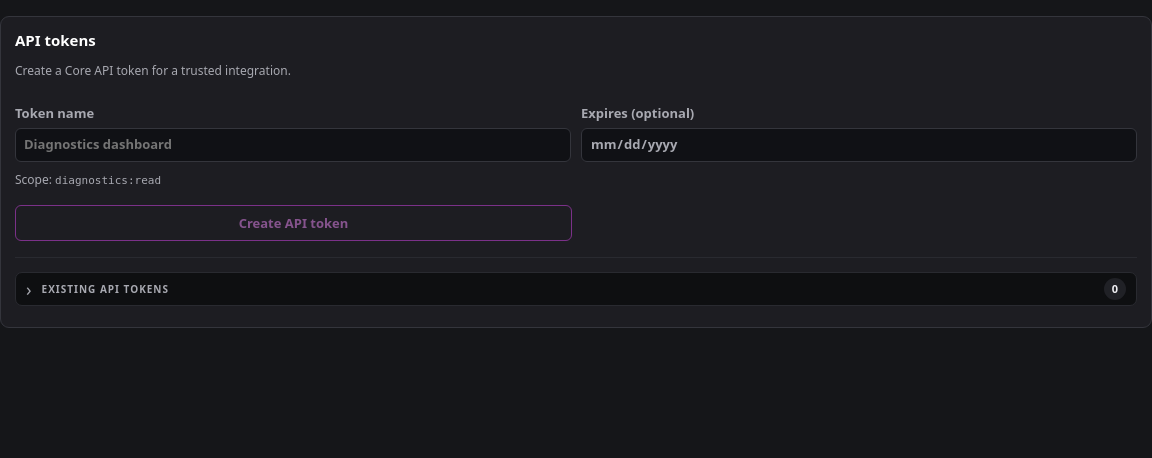
ApiTokensSettings › loads metadata and creates a token with a one-time reveal
The image size is (1152, 458).
Type "Dashboard" into the field labelled "Token name" at point(293, 145), box [15, 128, 571, 162]
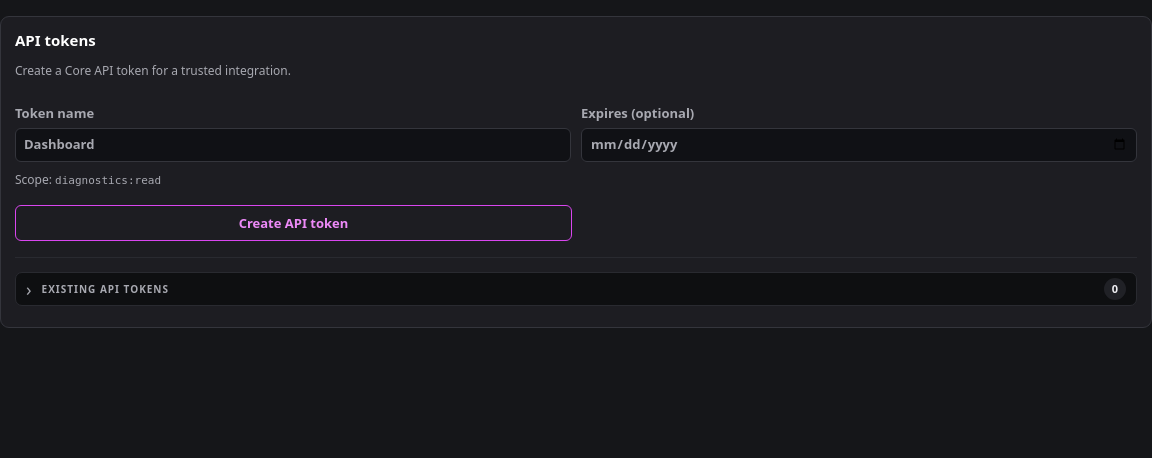
Click the button "Create API token" at point(294, 223), box [15, 204, 572, 241]
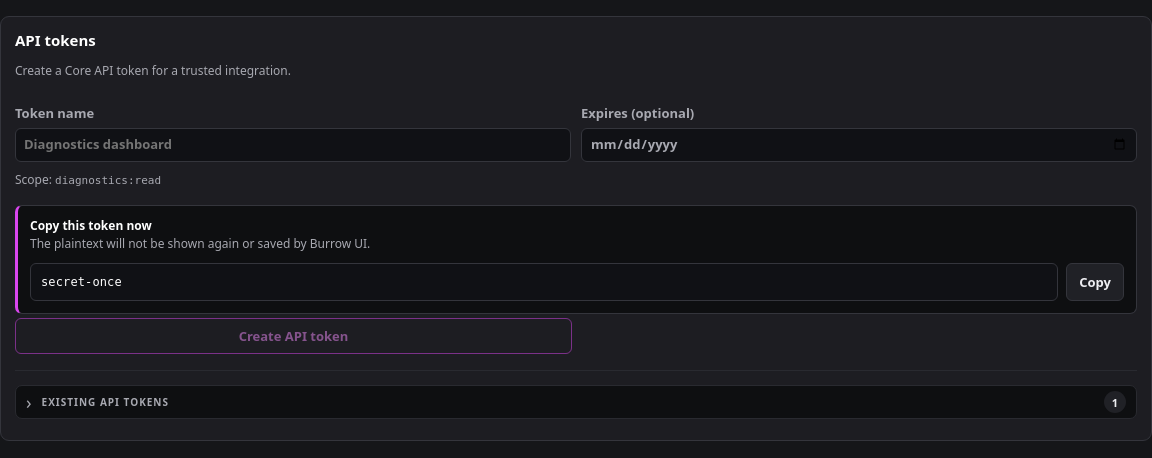
Result: the field showing "secret-once" is shown at [30, 263, 1058, 301]
Result: the text "The plaintext will not be shown again or saved by Burrow UI." is shown at [30, 235, 370, 252]
